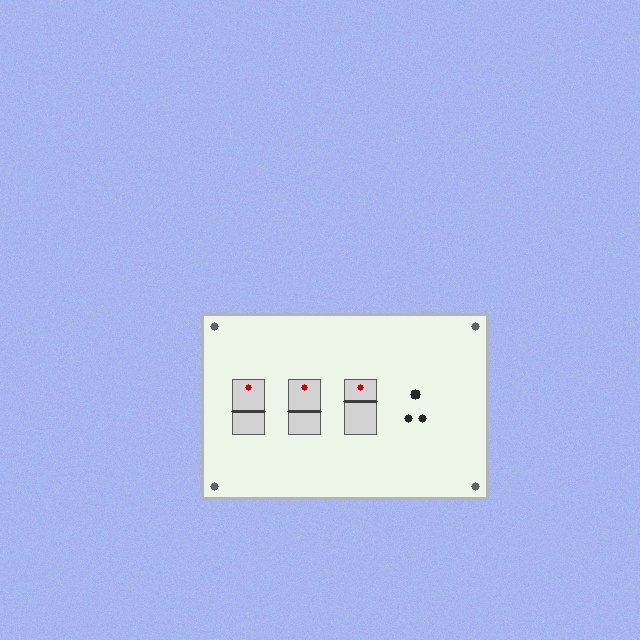switchboard: (202, 314, 487, 498)
